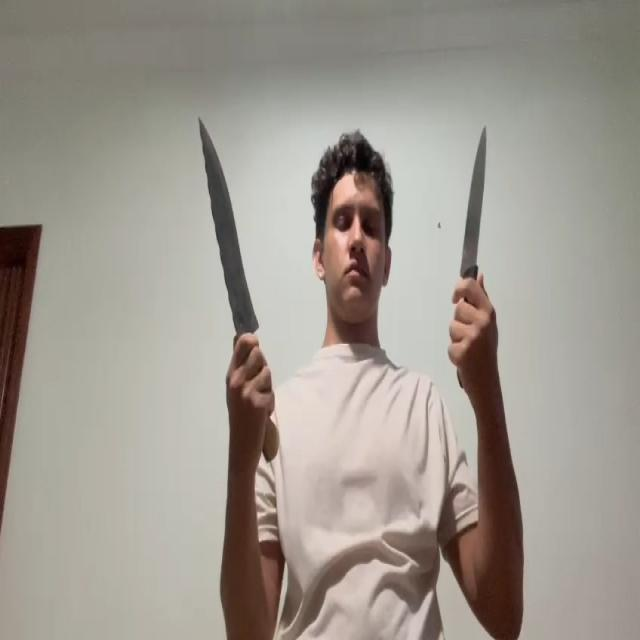knife: (200, 115, 260, 332), (461, 125, 488, 278)
